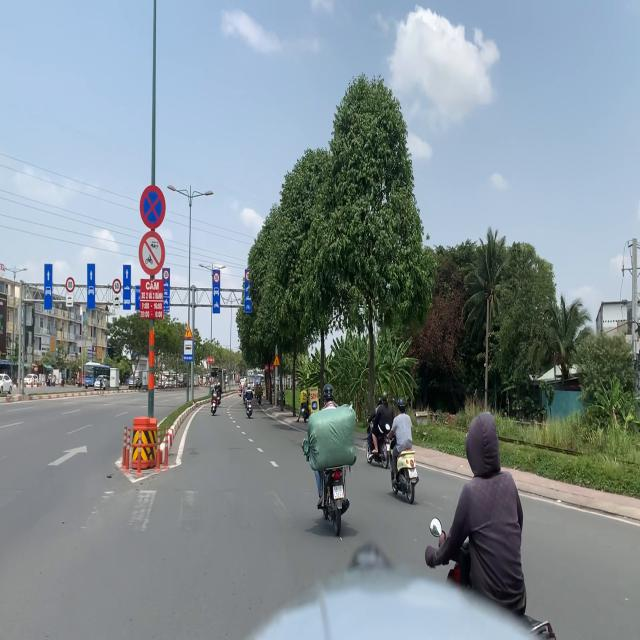Ben xe buyt: (183, 339, 193, 362)
Cam con lai: (138, 231, 166, 274)
Cam dung va do: (139, 185, 166, 229)
Nguoi di bo cat ngang: (273, 353, 280, 366)
Nguy hiem: (184, 324, 193, 338)
Toc do toi da: (65, 276, 75, 292), (112, 278, 121, 294), (245, 270, 252, 282), (213, 272, 220, 283), (163, 270, 169, 280)
